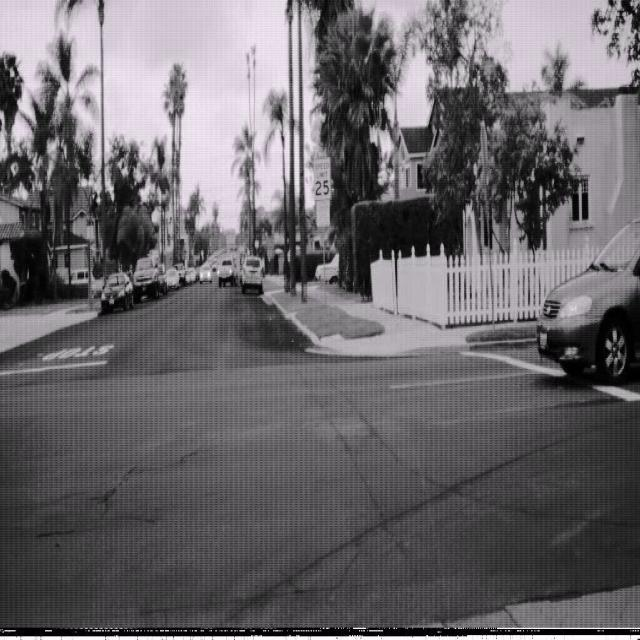speedLimit25: (312, 155, 332, 201)
